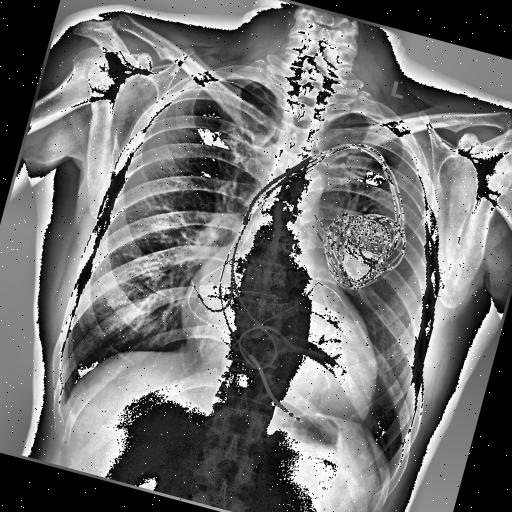3- Cardiomegaly: (160, 250, 396, 431), (162, 262, 398, 432), (162, 278, 392, 420)
